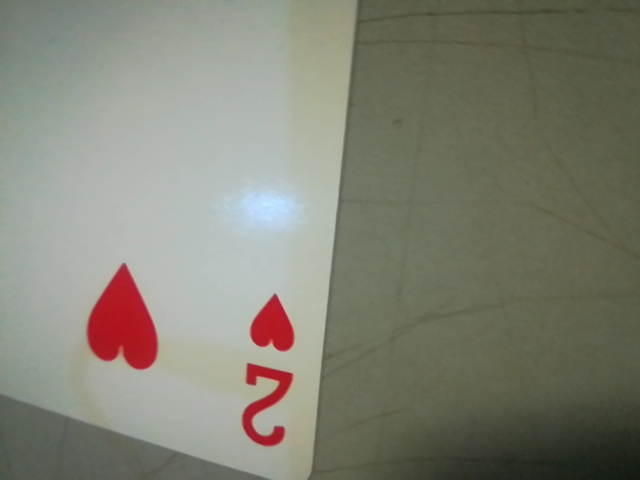hx 2: (229, 279, 315, 465)
